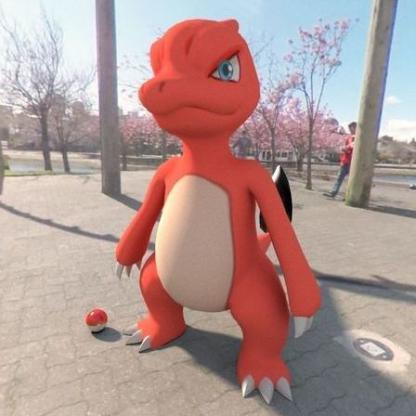Charmeleon: (80, 16, 346, 382)
